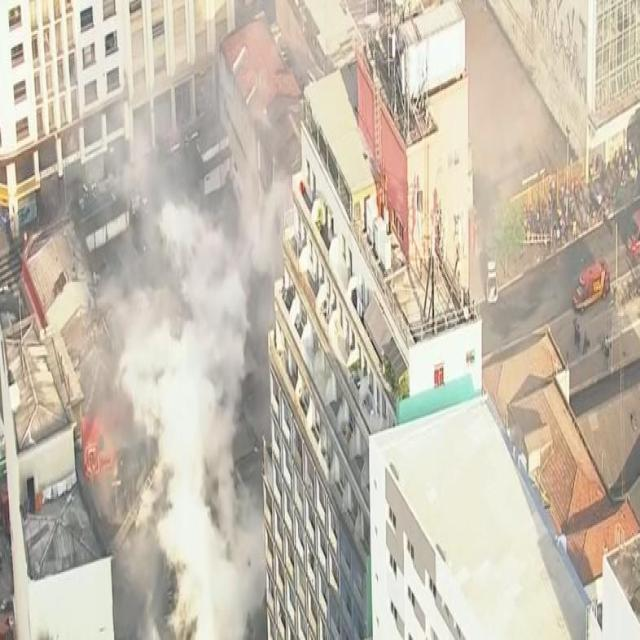Smoke: (101, 137, 266, 640)
